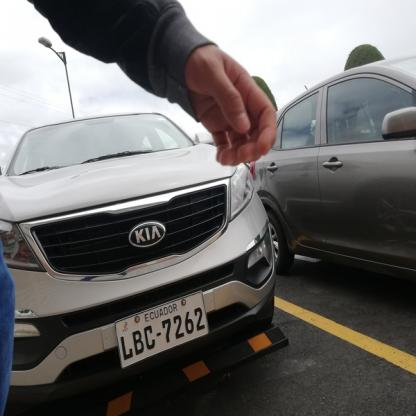Placa: (112, 290, 212, 368)
